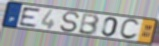0: (101, 17, 119, 38)
4: (40, 8, 57, 31)
B: (77, 13, 101, 36)
C: (118, 18, 140, 41)
E: (18, 7, 42, 28)
S: (59, 11, 81, 34)
